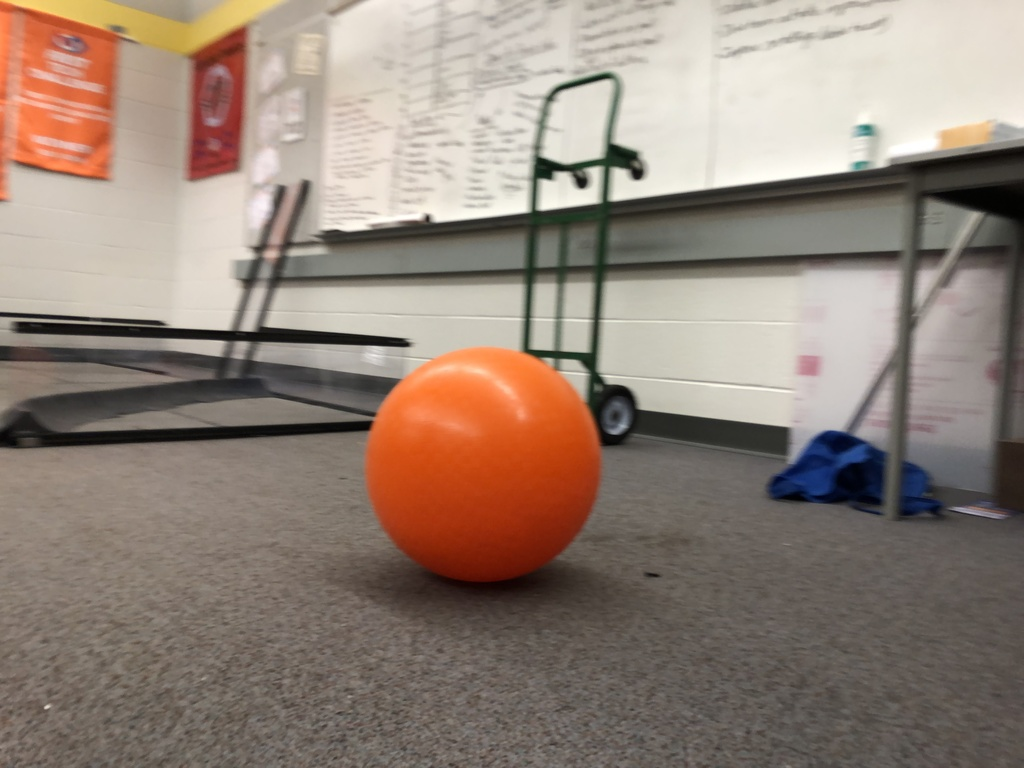cargo: (366, 338, 603, 593)
